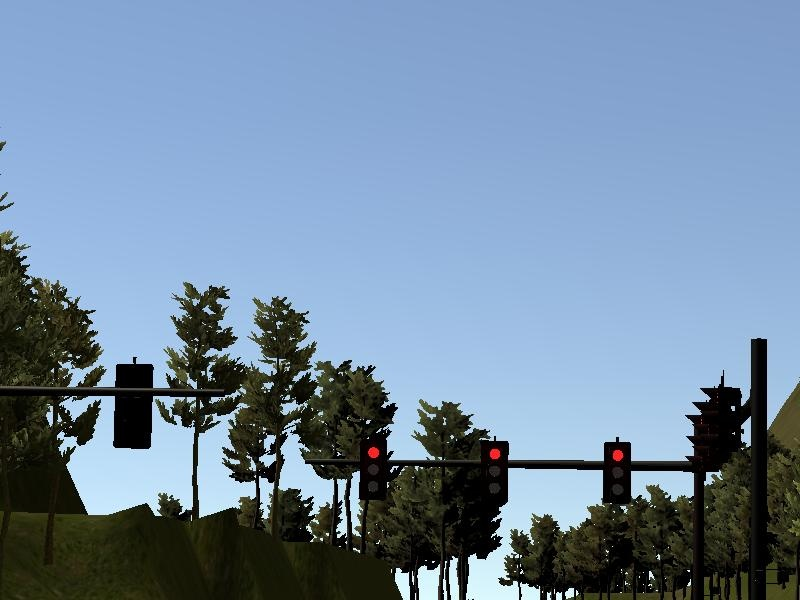red: (476, 435, 514, 506), (358, 434, 391, 508), (602, 437, 636, 507)
